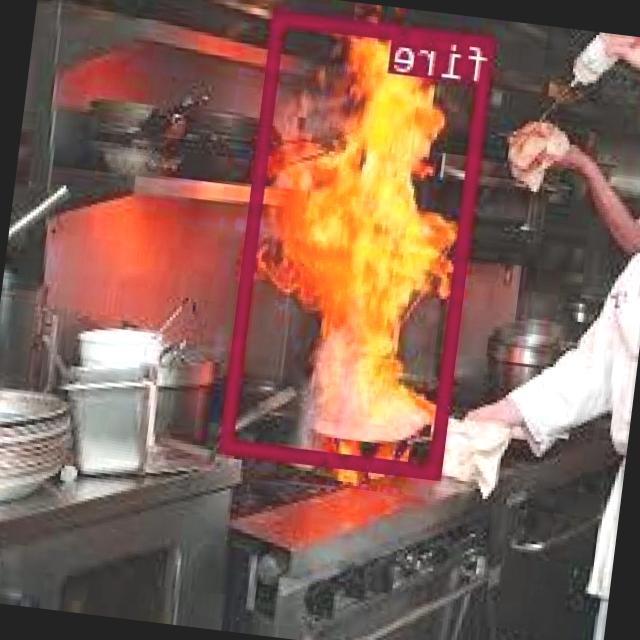fire: (222, 8, 496, 477)
